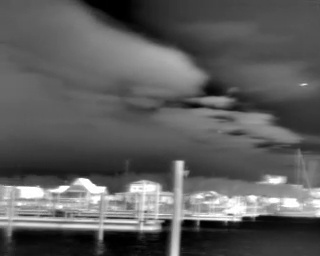BIRD: (297, 80, 310, 90)
